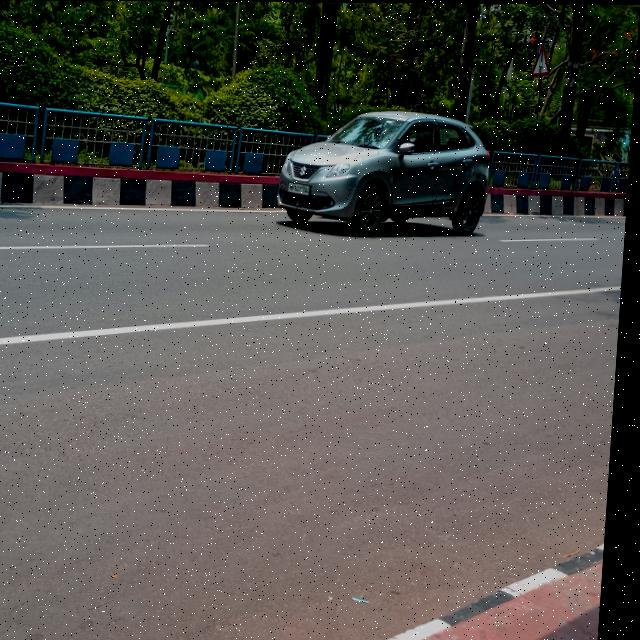car: (275, 97, 500, 250)
